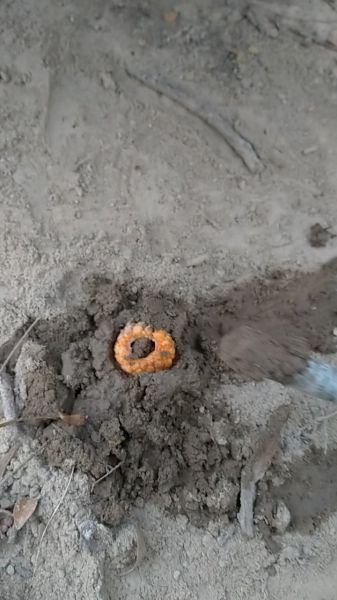eggs: (106, 315, 179, 383)
